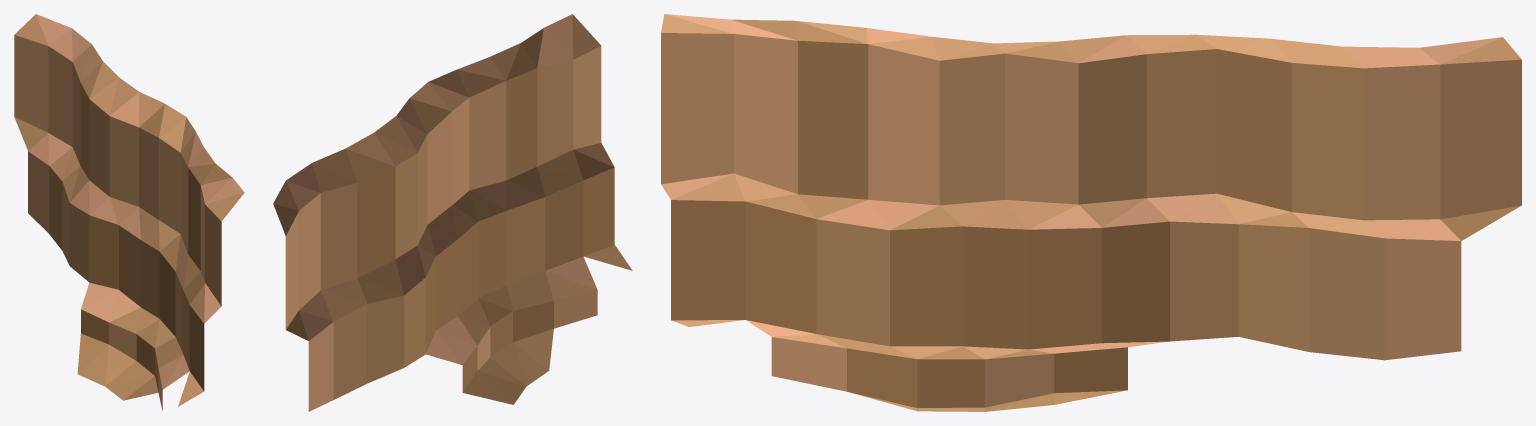
The picture shows the model from 3 angles, left to right: view 1: azimuth 30°, elevation 25°; view 2: azimuth 150°, elevation 25°; view 3: azimuth 270°, elevation 25°; orthographic projection. The views are drawn at different scales.
Visible parts, largest first — view 1: O2B176; view 2: O2B176; view 3: O2B176.
Part boxes in pixels (bbox=[...]): O2B176: bbox=[14, 14, 244, 410]; O2B176: bbox=[273, 14, 632, 411]; O2B176: bbox=[661, 14, 1521, 411].
Bounding box in the file's own units: 31.26 × 75 × 133.
